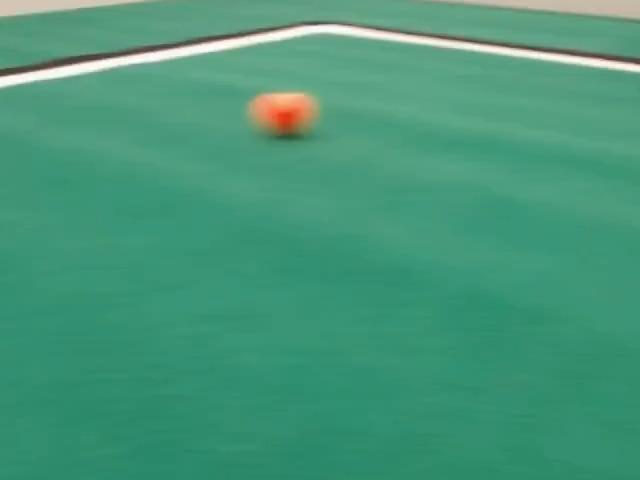Ball: (248, 92, 318, 136)
